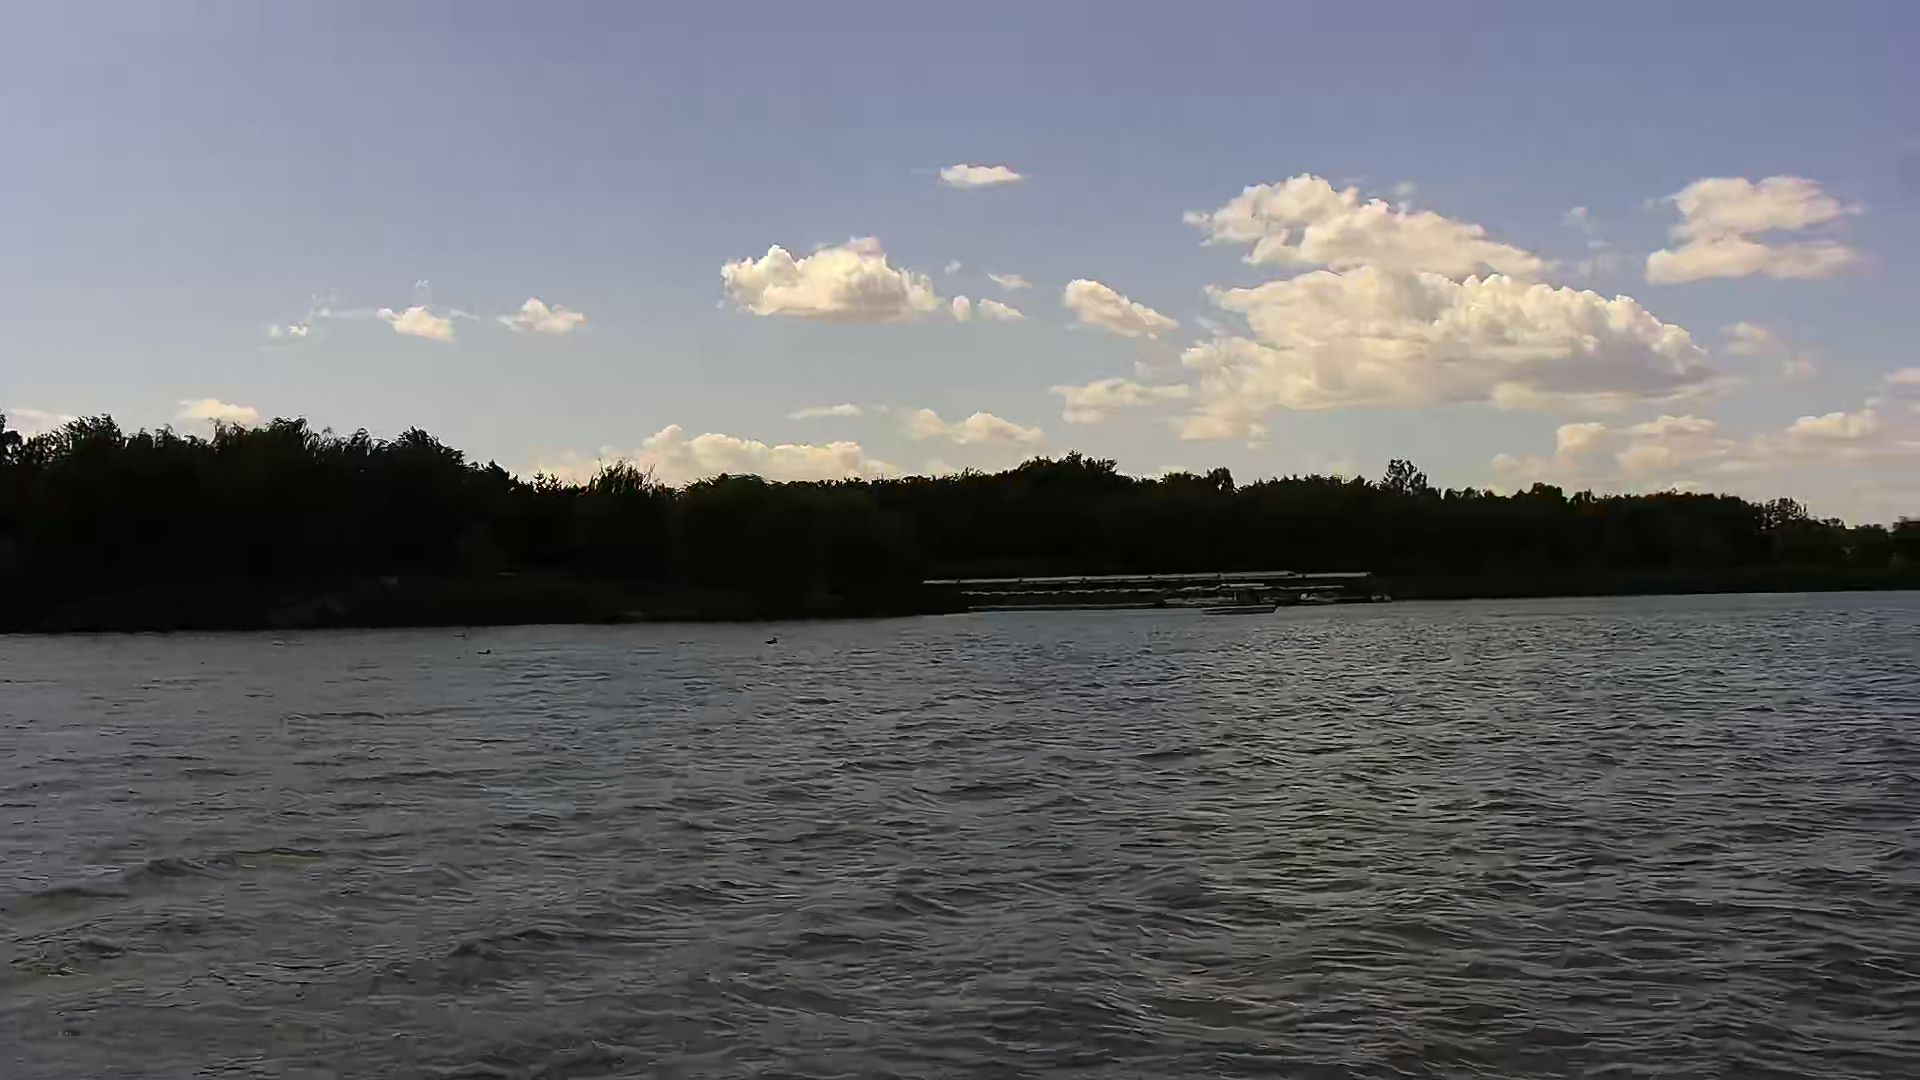boat: (1204, 578, 1276, 620)
harbor: (916, 568, 1377, 611)
